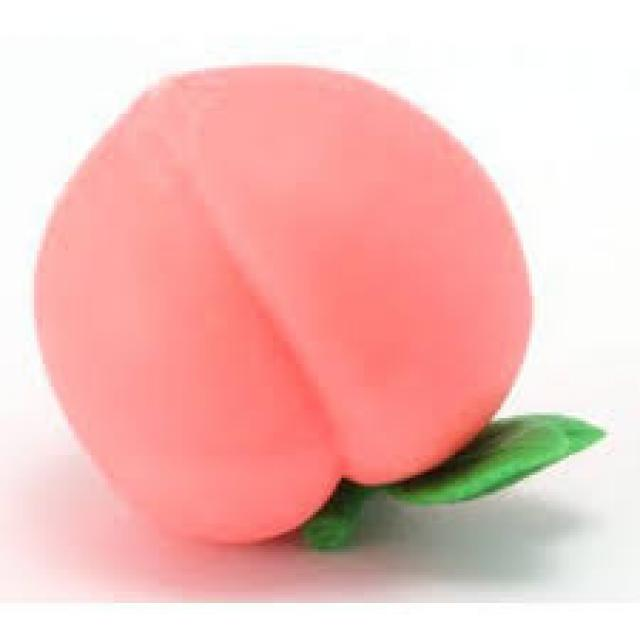organic waste: (31, 62, 529, 554)
